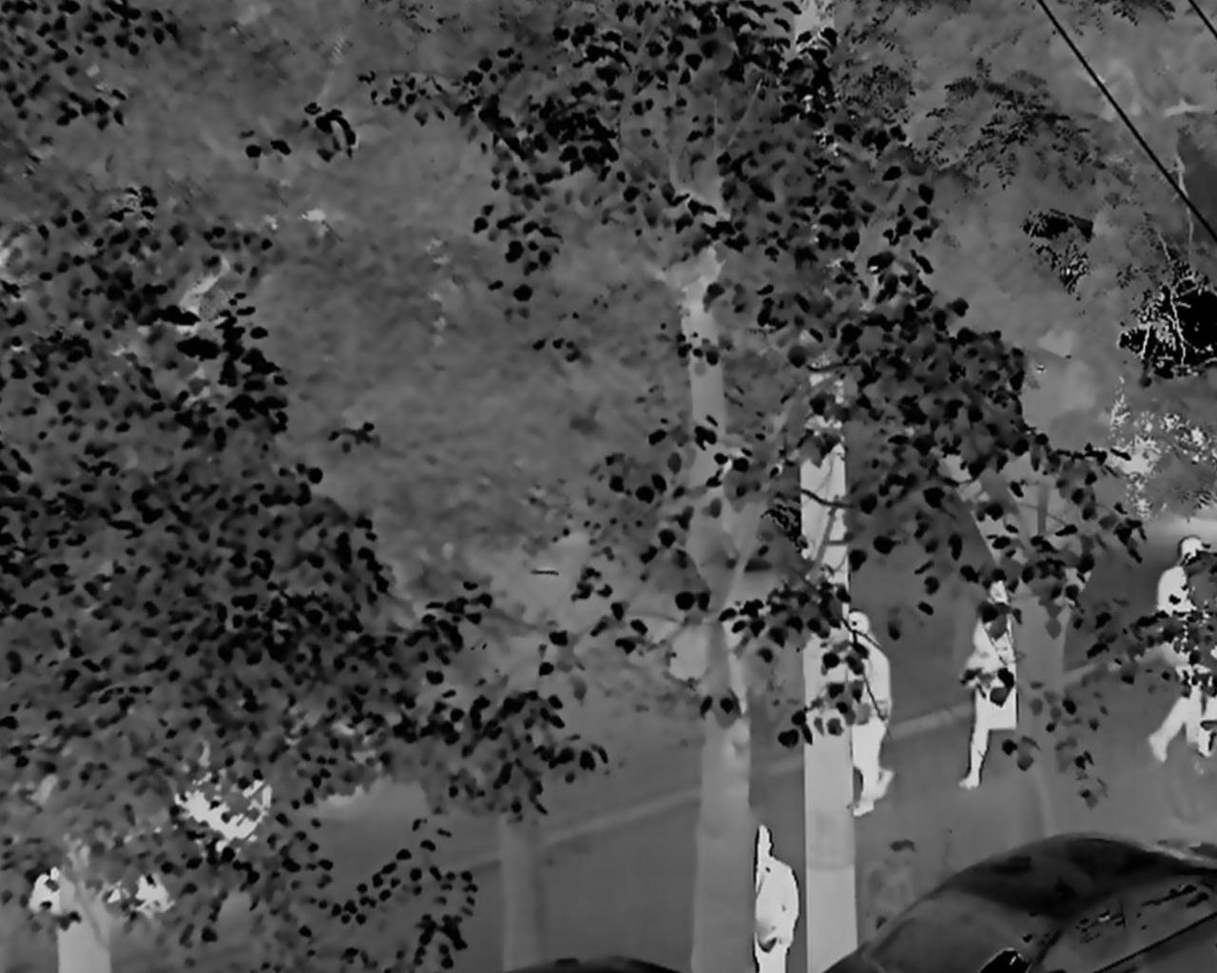person: (966, 578, 1024, 796), (1155, 535, 1203, 776), (849, 612, 894, 818), (753, 821, 793, 973)
